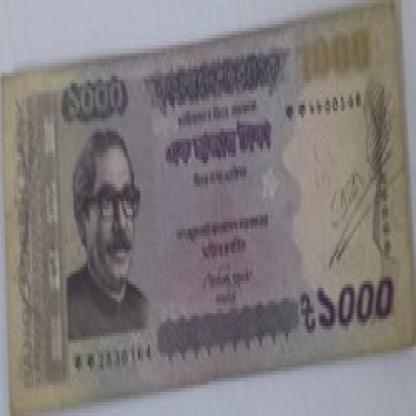One Thousand taka: (300, 277, 400, 333), (61, 76, 130, 122)
